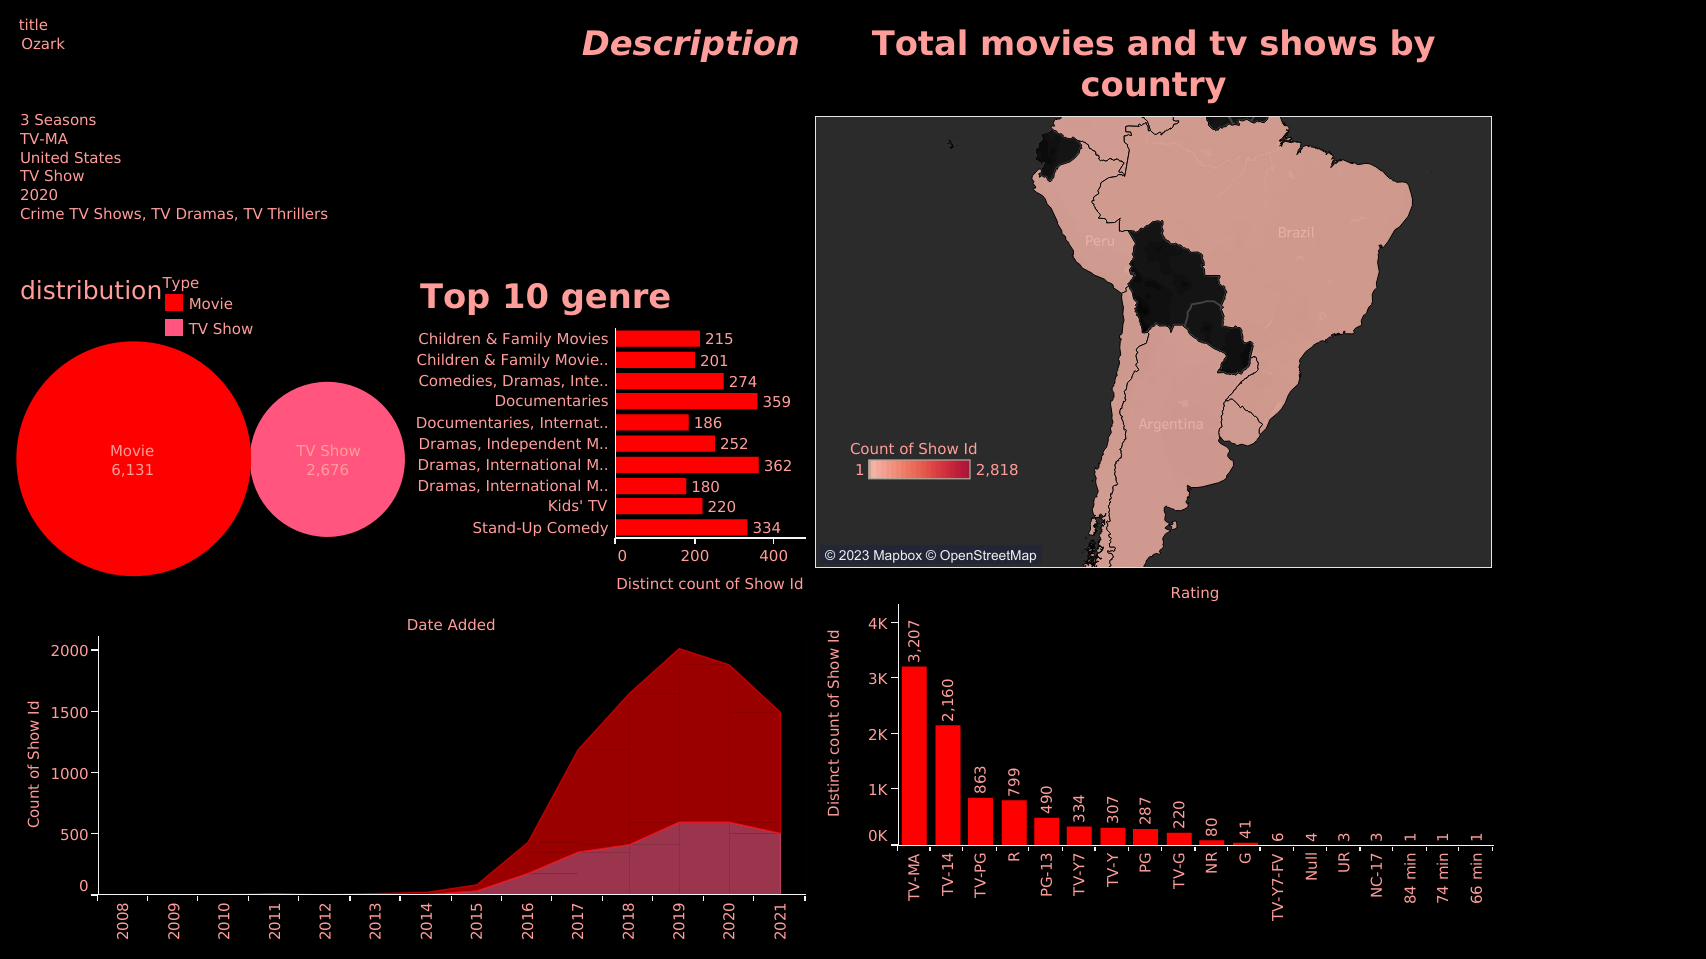

This screenshot's page, from the dashboard's own definition file:
{"tool":"tableau","page":{"name":"Dashboard 1","canvas":[1366,768],"ordinal":0},"visuals":[{"type":"worksheet","title":"desc","mark":"Automatic","box":[8,8,640,202.4]},{"type":"worksheet","title":"tv shows","mark":"Multipolygon","box":[648,8,550,451]},{"type":"filter","title":"desc","param":"[federated.1hlvmax1peu3er18lx7xx0r4x183].[none:title:nk]","box":[15,10.6,405.7,49.9]},{"type":"worksheet","title":"distribution","mark":"Circle","box":[8,210.4,320,274.8]},{"type":"worksheet","title":"genre","mark":"Automatic","rows":["listed_in"],"cols":["show_id"],"box":[328,210.4,320,274.8]},{"type":"legend","title":"distribution","param":"[federated.1hlvmax1peu3er18lx7xx0r4x183].[none:type:nk]","box":[129,216,192,55]},{"type":"legend","title":"tv shows","param":"[federated.1hlvmax1peu3er18lx7xx0r4x183].[cnt:show_id:qk]","box":[680,347,140,76]},{"type":"worksheet","title":"ratings","mark":"Automatic","rows":["show_id"],"cols":["rating"],"box":[648,459,550,301]},{"type":"worksheet","title":"year","mark":"Area","rows":["show_id"],"cols":["date_added"],"box":[8,485.2,640,274.8]}]}

Visuals, with their boxes in screenshot pixels (x1, y1, x2, y2), scaled from the page's 1366x768 canvas onto the 1706x959 screenshot:
"desc" worksheet: [10,10,809,263]
"tv shows" worksheet (Multipolygon marks): [809,10,1496,573]
"desc" filter: [19,13,525,76]
"distribution" worksheet (Circle marks): [10,263,410,606]
"genre" worksheet: [410,263,809,606]
"distribution" legend: [161,270,401,338]
"tv shows" legend: [849,433,1024,528]
"ratings" worksheet: [809,573,1496,949]
"year" worksheet (Area marks): [10,606,809,949]
